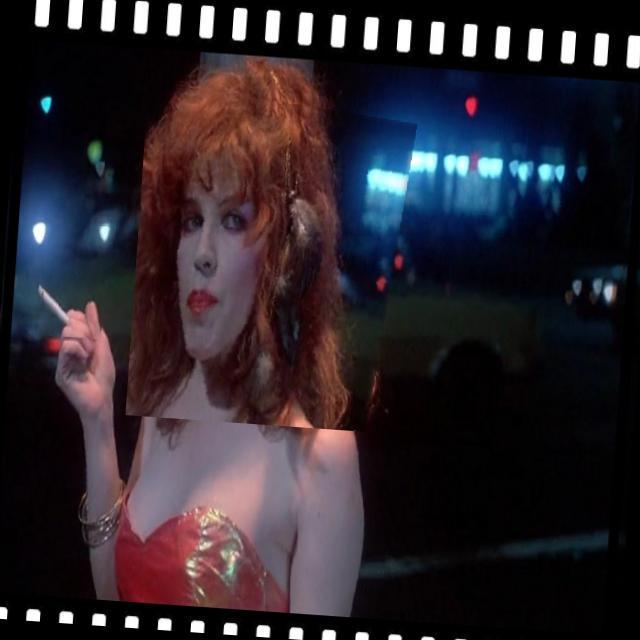cigarette: (18, 257, 106, 339)
